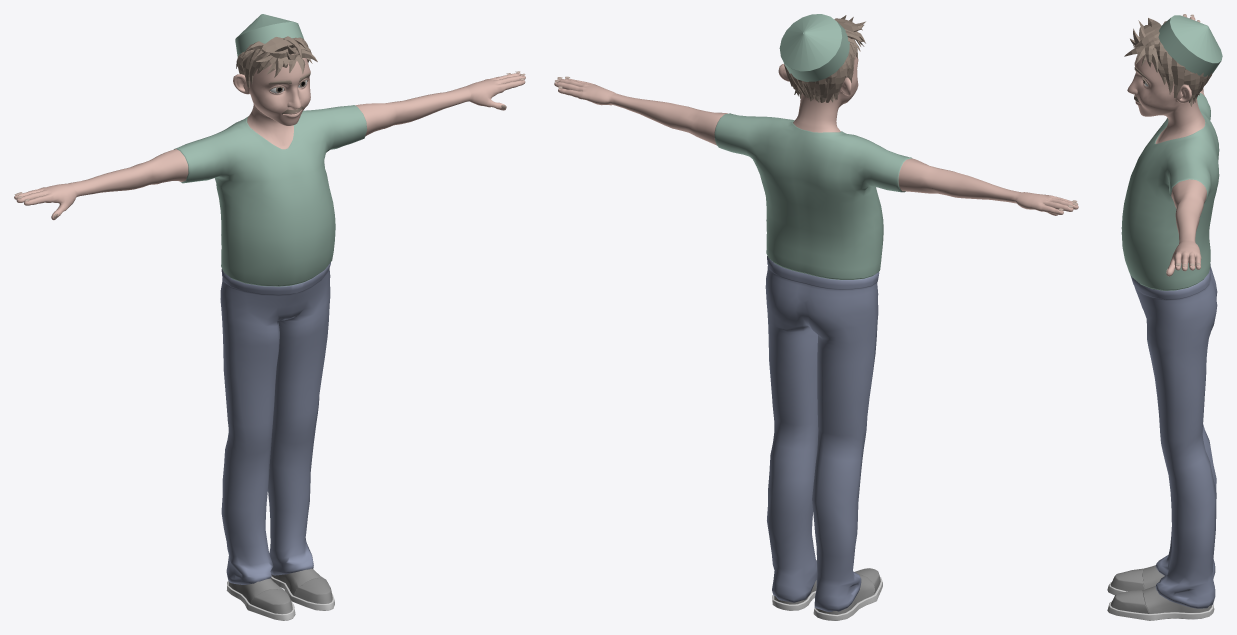
The model's file is Farmer_FBX.fbx.
3 views of the same model, side by side, from view 1: azimuth 30°, elevation 25°; view 2: azimuth 150°, elevation 25°; view 3: azimuth 270°, elevation 25° (orthographic). The views are drawn at different scales.
Visible parts, largest first — view 1: farmer_01:polySurface135, farmer_01:hairGEO, farmer_01:Rt_shoe, farmer_01:Rt_shoe1, farmer_01:polySurface138; view 2: farmer_01:polySurface135, farmer_01:polySurface138, farmer_01:hairGEO, farmer_01:Rt_shoe; view 3: farmer_01:polySurface135, farmer_01:polySurface138, farmer_01:hairGEO, farmer_01:Rt_shoe1, farmer_01:Rt_shoe.
Boxes of the visible parts, left/top/right/bottom form: farmer_01:polySurface135: left=14, top=53, right=525, bottom=584; farmer_01:hairGEO: left=236, top=36, right=317, bottom=87; farmer_01:Rt_shoe: left=226, top=578, right=295, bottom=620; farmer_01:Rt_shoe1: left=271, top=568, right=334, bottom=610; farmer_01:polySurface138: left=235, top=14, right=303, bottom=57; farmer_01:polySurface135: left=554, top=54, right=1078, bottom=611; farmer_01:polySurface138: left=779, top=14, right=849, bottom=81; farmer_01:hairGEO: left=784, top=15, right=865, bottom=102; farmer_01:Rt_shoe: left=813, top=568, right=882, bottom=620; farmer_01:polySurface135: left=1121, top=16, right=1219, bottom=608; farmer_01:polySurface138: left=1158, top=15, right=1222, bottom=76; farmer_01:hairGEO: left=1124, top=18, right=1212, bottom=106; farmer_01:Rt_shoe1: left=1107, top=586, right=1214, bottom=620; farmer_01:Rt_shoe: left=1107, top=565, right=1164, bottom=595.
Bounding box in the file's own units: 16.31 × 17.46 × 3.14.
